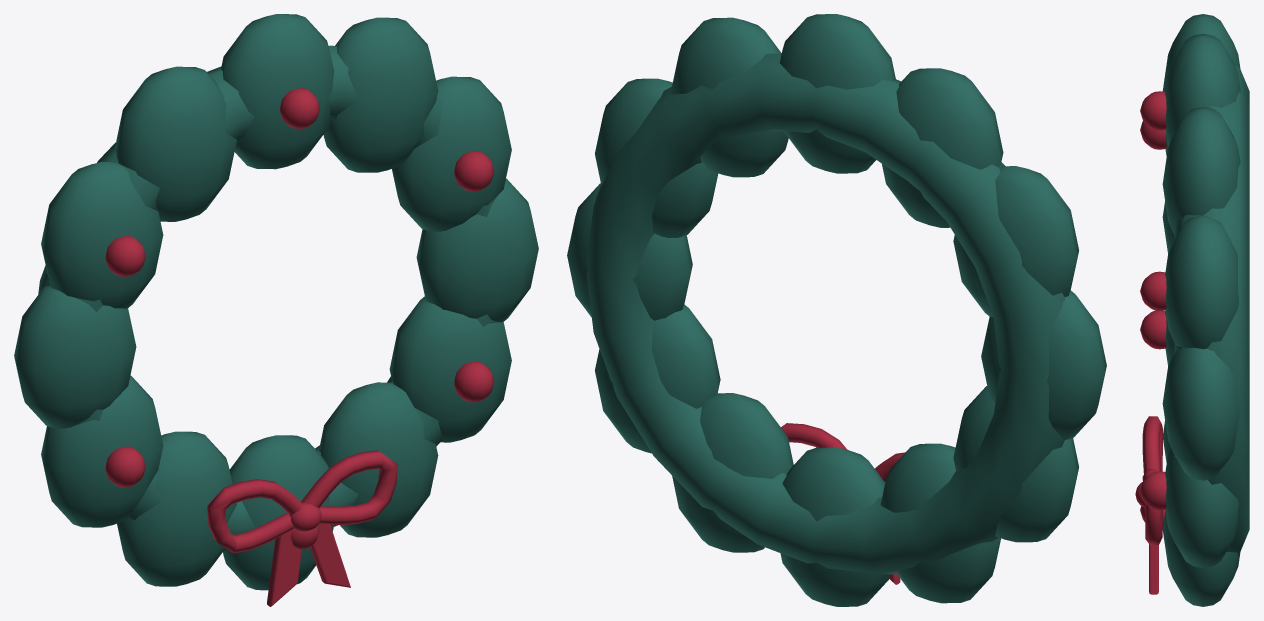
Rendered from christmas-storybook-cedar-wreath-097c7f8d__18721.glb.
The picture shows the model from 3 angles, left to right: view 1: azimuth 30°, elevation 25°; view 2: azimuth 150°, elevation 25°; view 3: azimuth 270°, elevation 25°; orthographic projection. The views are drawn at different scales.
Parts seen in each view (by area): view 1: pine, berry; view 2: pine, berry; view 3: pine, berry.
Part boxes in pixels (x1,y1,x2,y2): pine: (14, 14, 538, 590); berry: (105, 88, 494, 606); pine: (567, 14, 1106, 606); berry: (781, 423, 905, 584); pine: (1162, 14, 1249, 606); berry: (1135, 91, 1166, 594).
Size of the model in its own units: 0.9799 by 1.04 by 0.1969.
